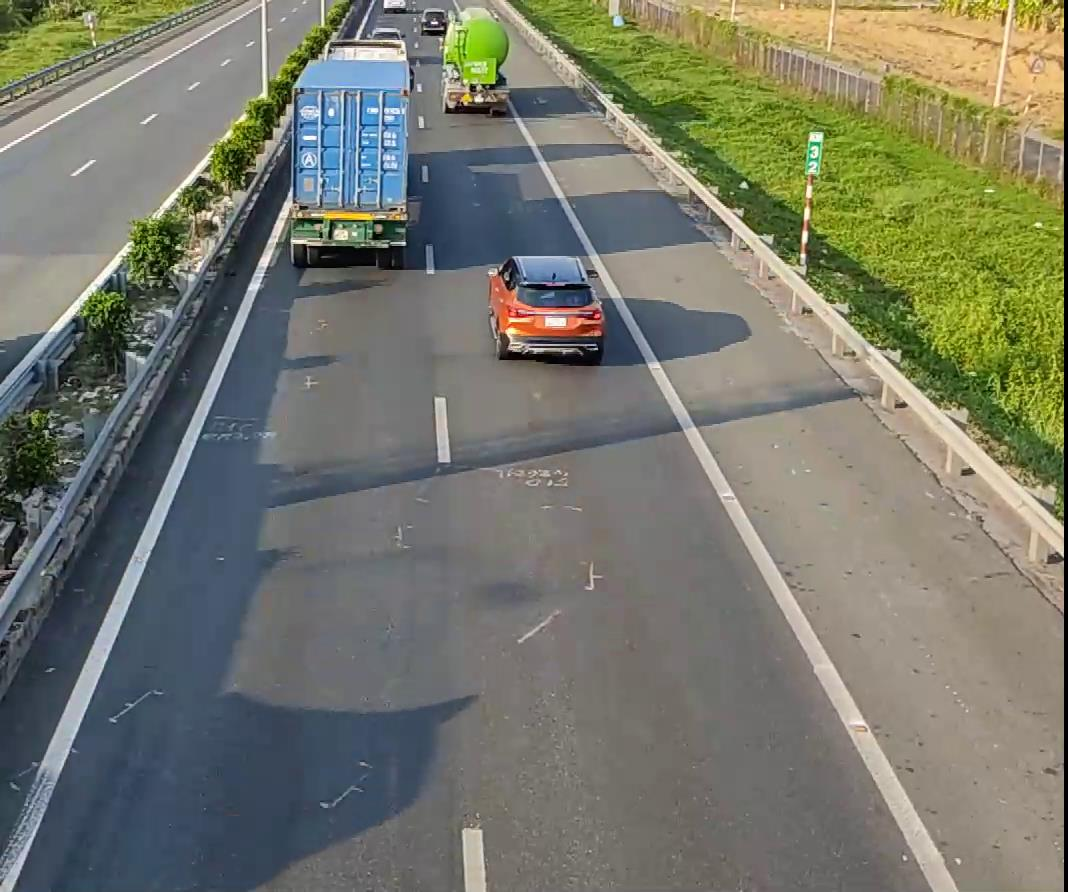car: (486, 257, 605, 360)
container: (285, 23, 411, 267), (439, 3, 509, 113)
